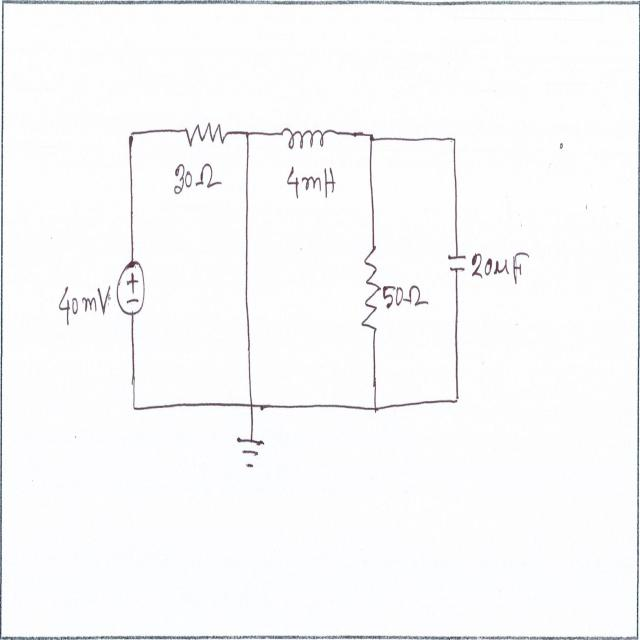capacitor: (444, 246, 468, 284)
ground: (235, 424, 264, 477)
inductor: (281, 118, 332, 156)
resistor: (357, 245, 383, 337), (183, 121, 226, 153)
voltage_source: (117, 257, 145, 319)
